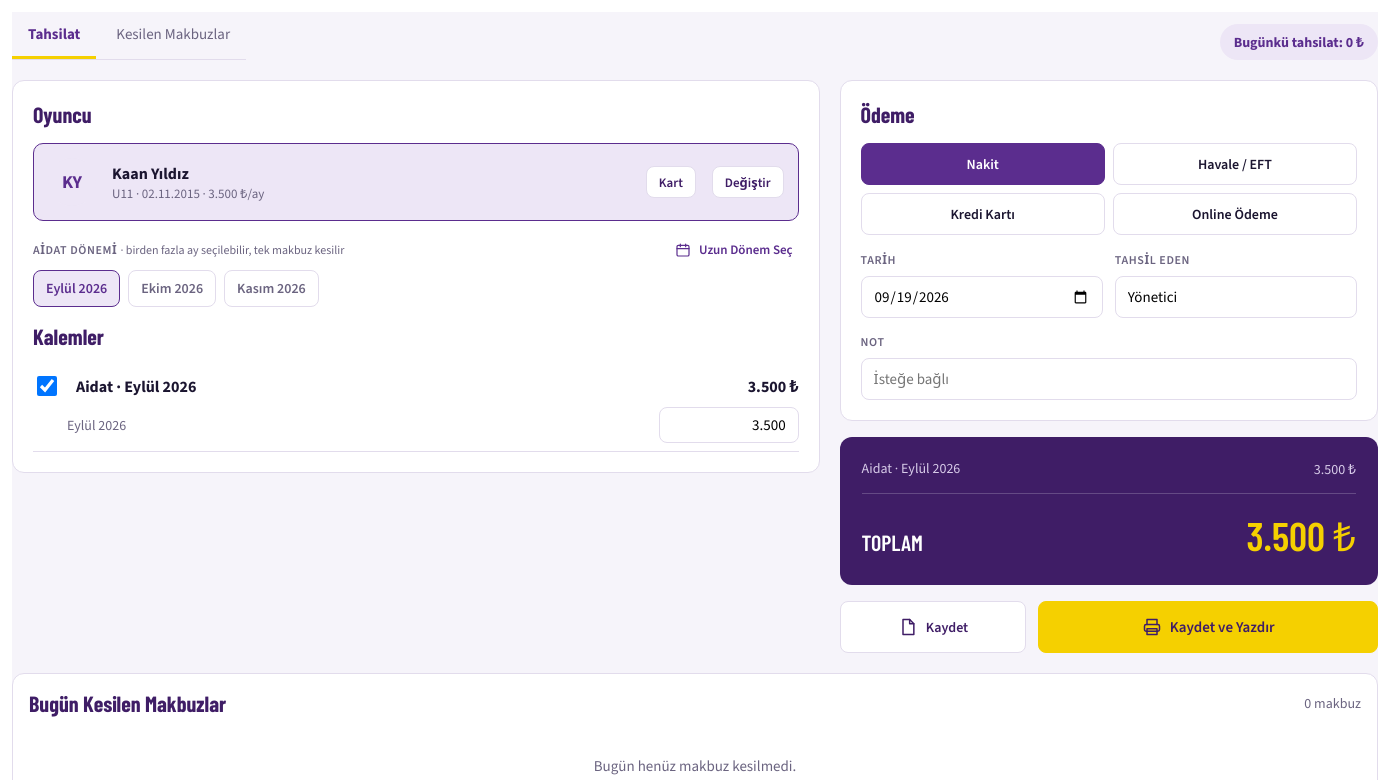
Test: Tahsilat — yazdırma/PDF hata yolları › hiç kalem seçilmemişse Kaydet 'En az bir kalem seçin' der ve makbuz oluşturmaz
Check: the button "Kaydet" is enabled, box [840,601,1026,653]
// seçili gelen ay varsa kaldır (ay pilleri aria-pressed)
Click the button "Eylül 2026" at (77, 288), box [33,270,120,307]
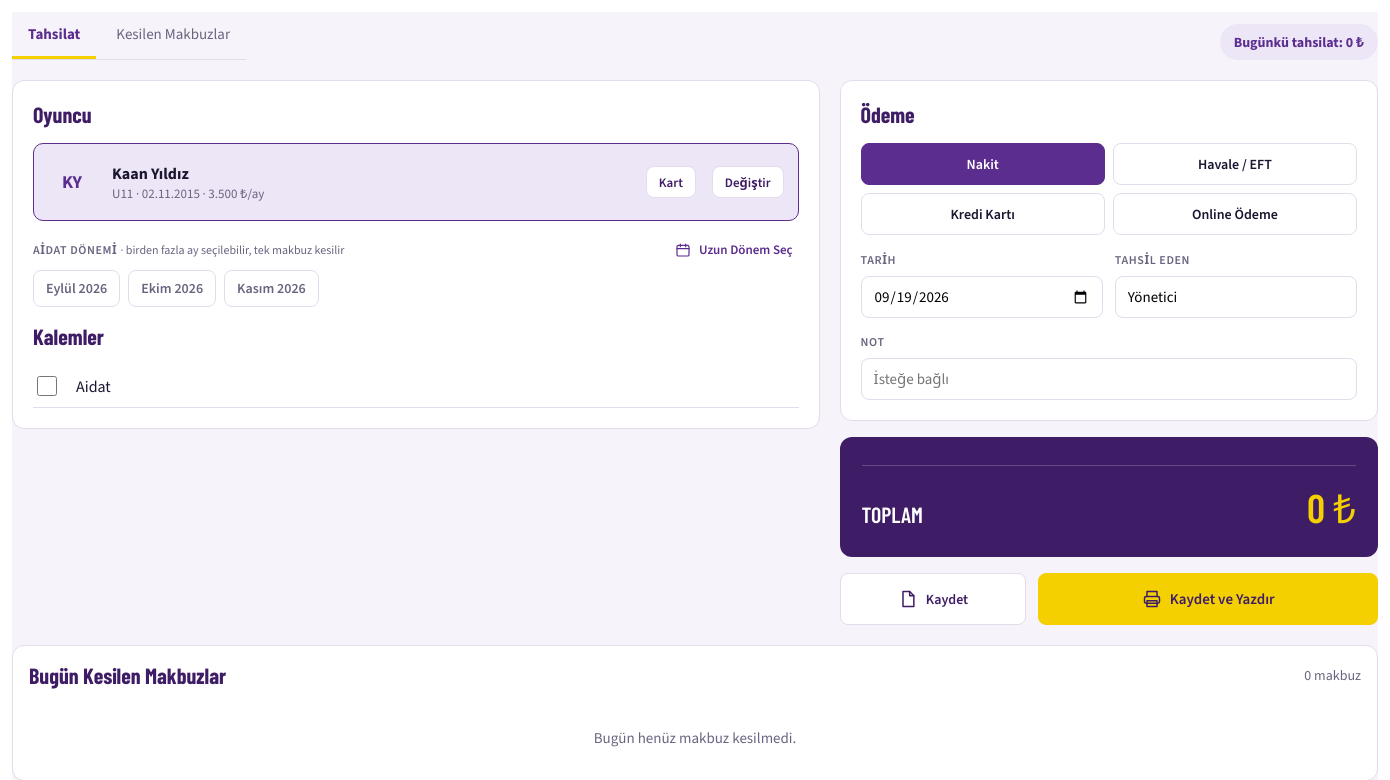
Click the button "Kaydet" at (933, 599), box [840,573,1026,625]
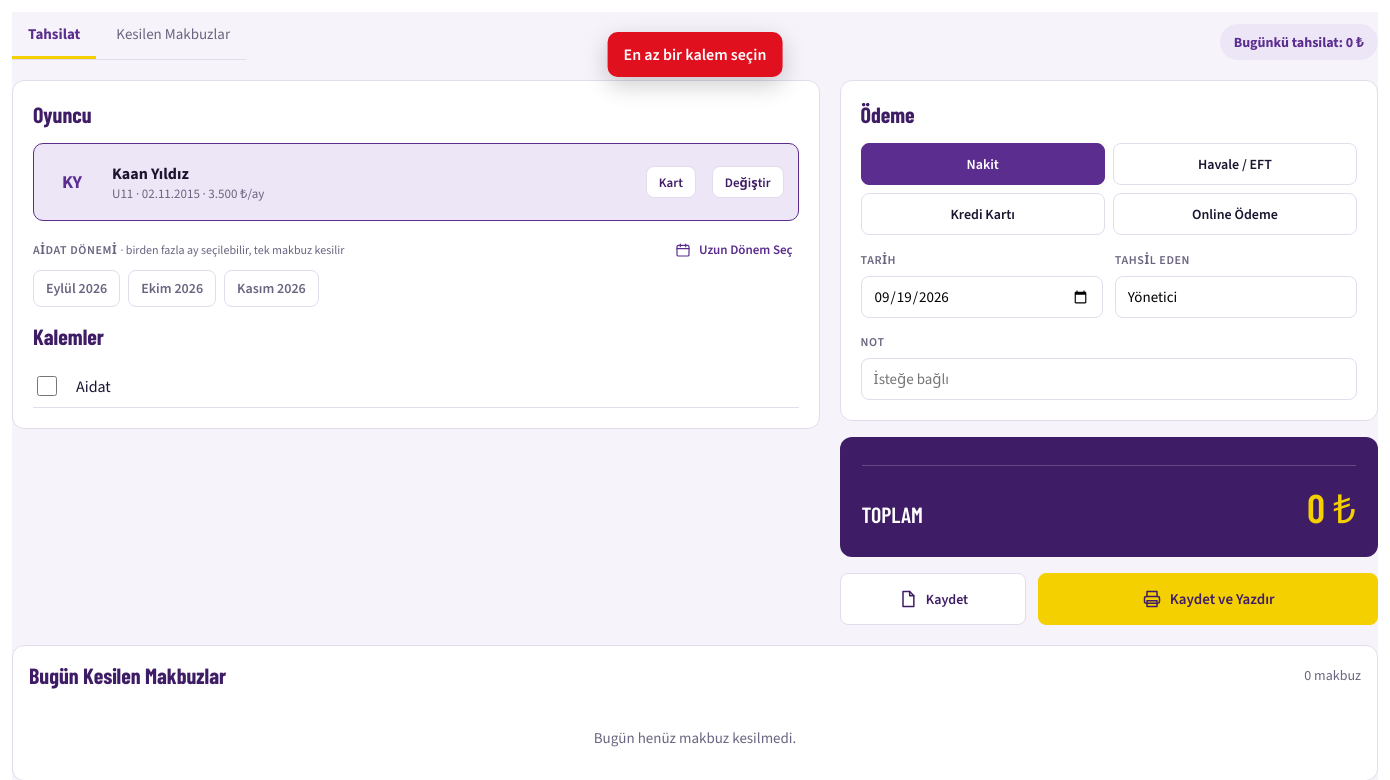
Check: the text "En az bir kalem seçin" is shown, box [608,32,782,77]
